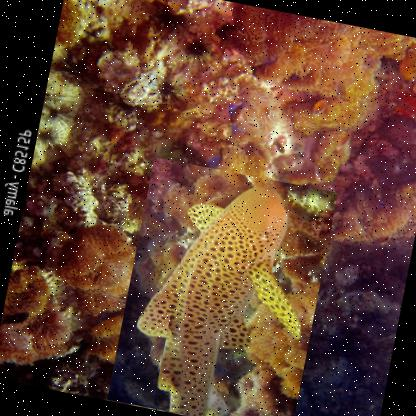zebra_shark: (106, 154, 339, 415)
